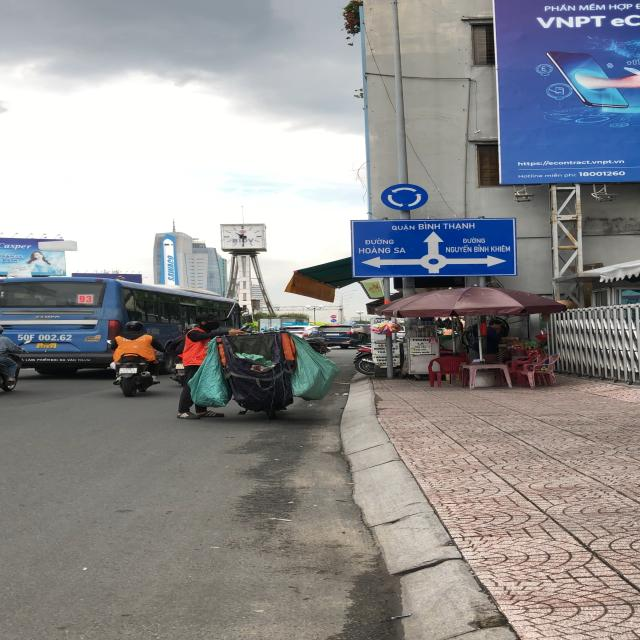Bien bao noi giao nhau chay theo vong xuyen: (380, 181, 428, 212)
